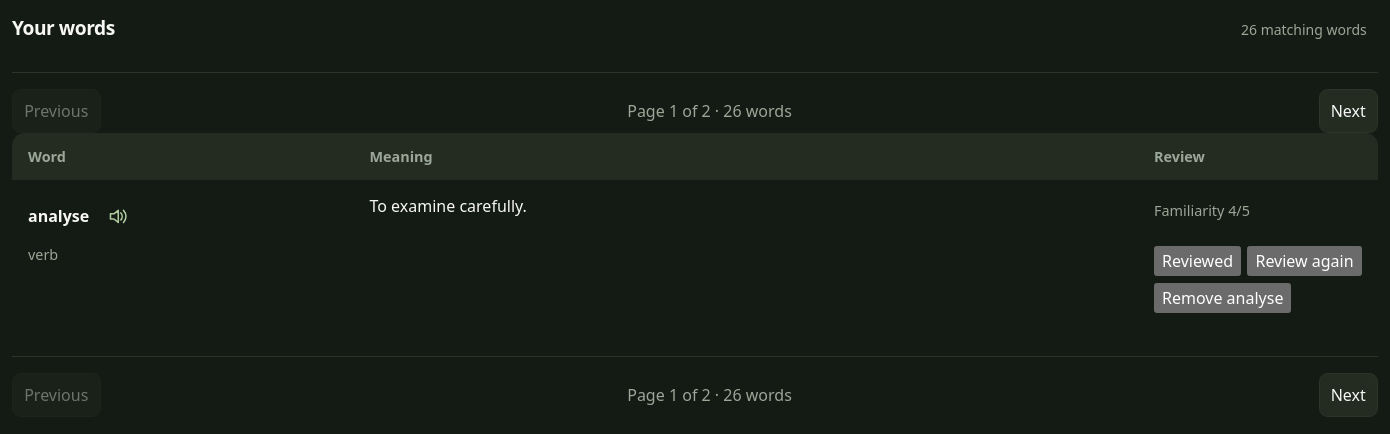
Test case: hides previous entries while a new page loads and applies the header search
Expected: the text "To examine carefully." is shown, [370,195,527,217]
Click the 1st button "Next".
click(1348, 111)  # box [1318,89,1378,133]
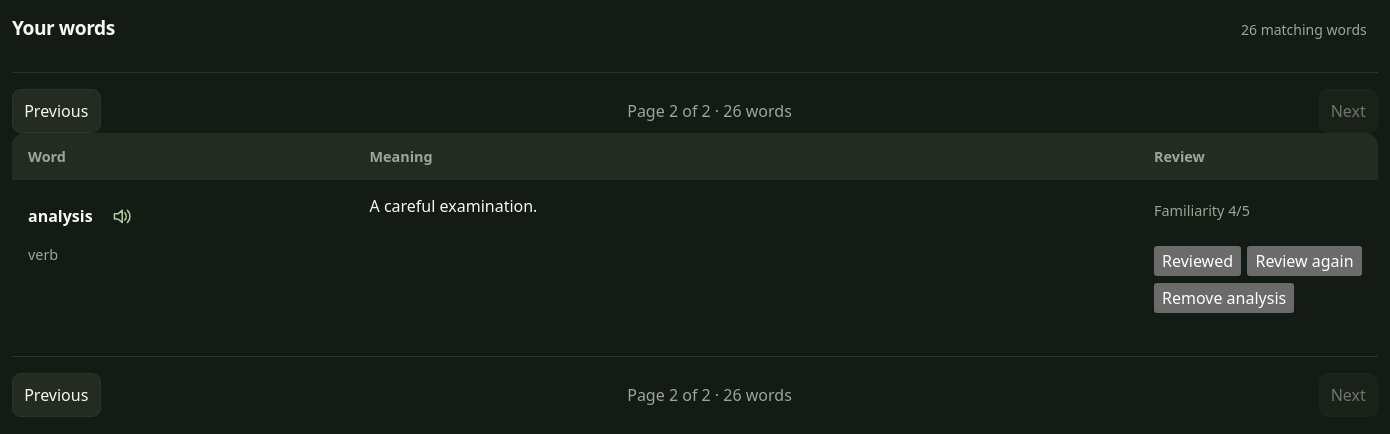
Expected: the text "To examine carefully." is gone
Expected: the text "A careful examination." is shown, [370,195,537,217]
